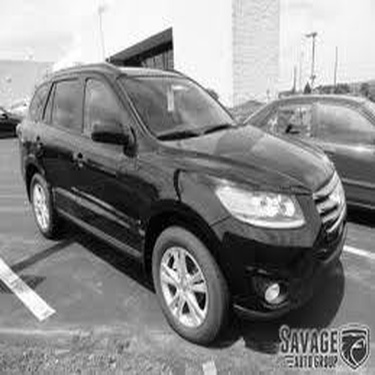car: (19, 51, 354, 329), (256, 77, 375, 172)
